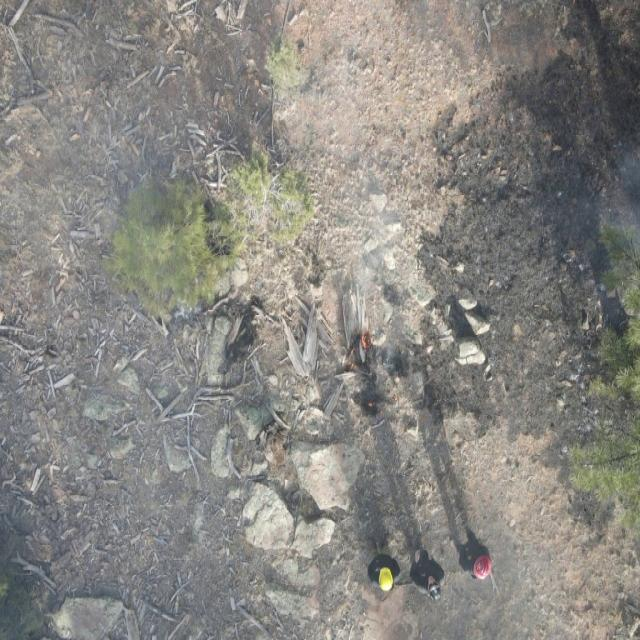fire: (345, 334, 374, 374), (366, 396, 384, 416)
smoke: (0, 1, 288, 640), (286, 44, 442, 458), (289, 456, 557, 640), (524, 134, 640, 262)
